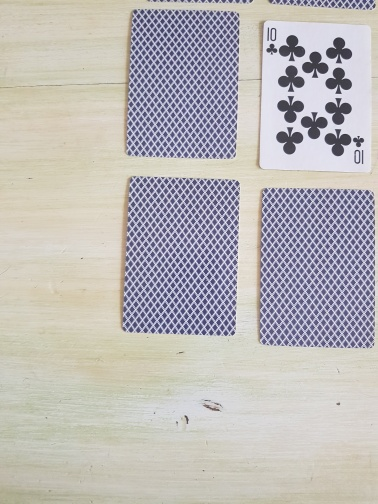ten: (257, 20, 373, 175)
